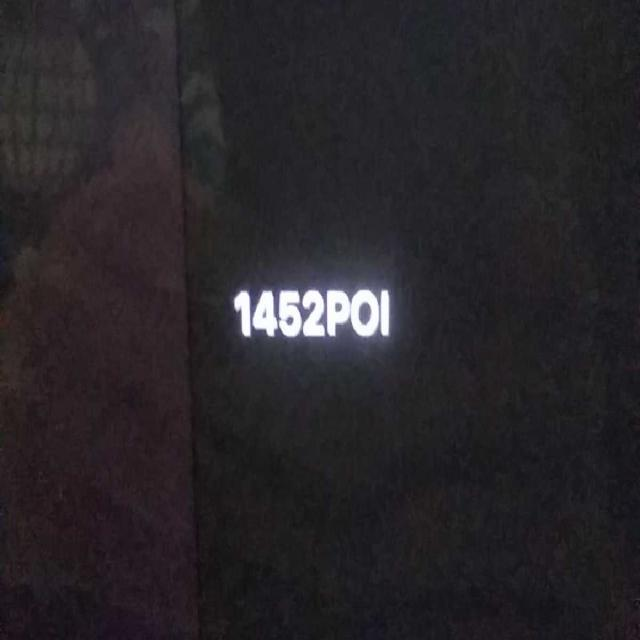license_plate: (225, 274, 406, 354), (326, 285, 351, 339)
